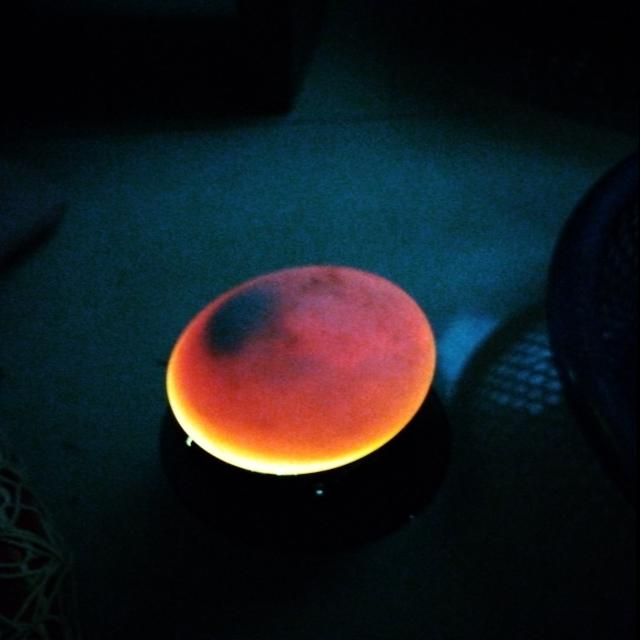Area Infectada: (198, 278, 299, 361)
